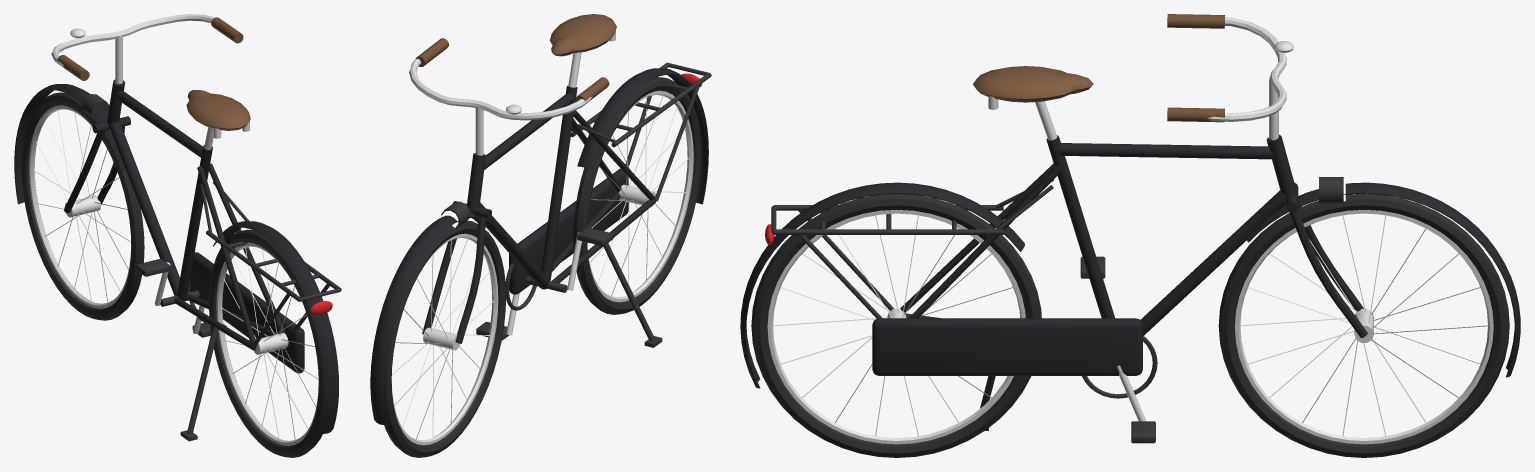
Rendered from bike_opa.glb.
The picture shows the model from 3 angles, left to right: view 1: azimuth 30°, elevation 25°; view 2: azimuth 150°, elevation 25°; view 3: azimuth 270°, elevation 25°; orthographic projection. The views are drawn at different scales.
Parts seen in each view (by area): view 1: frame, wheel_front, wheel_rear, crank, stand; view 2: frame, wheel_rear, wheel_front, crank, stand; view 3: frame, wheel_front, wheel_rear, crank.
Part boxes in pixels (x1,y1,x2,y2): frame: (14,14,341,433); wheel_front: (21,92,144,320); wheel_rear: (209,229,323,457); crank: (136,258,226,337); stand: (180,326,218,441); frame: (370,14,711,424); wheel_rear: (573,77,701,314); wheel_front: (384,220,505,457); crank: (476,227,613,340); stand: (603,243,662,347); frame: (740,14,1520,388); wheel_front: (1218,194,1509,457); wheel_rear: (751,193,1041,457); crank: (1080,256,1157,443).
Size of the model in its own units: 0.5766 by 1.07 by 1.9.
